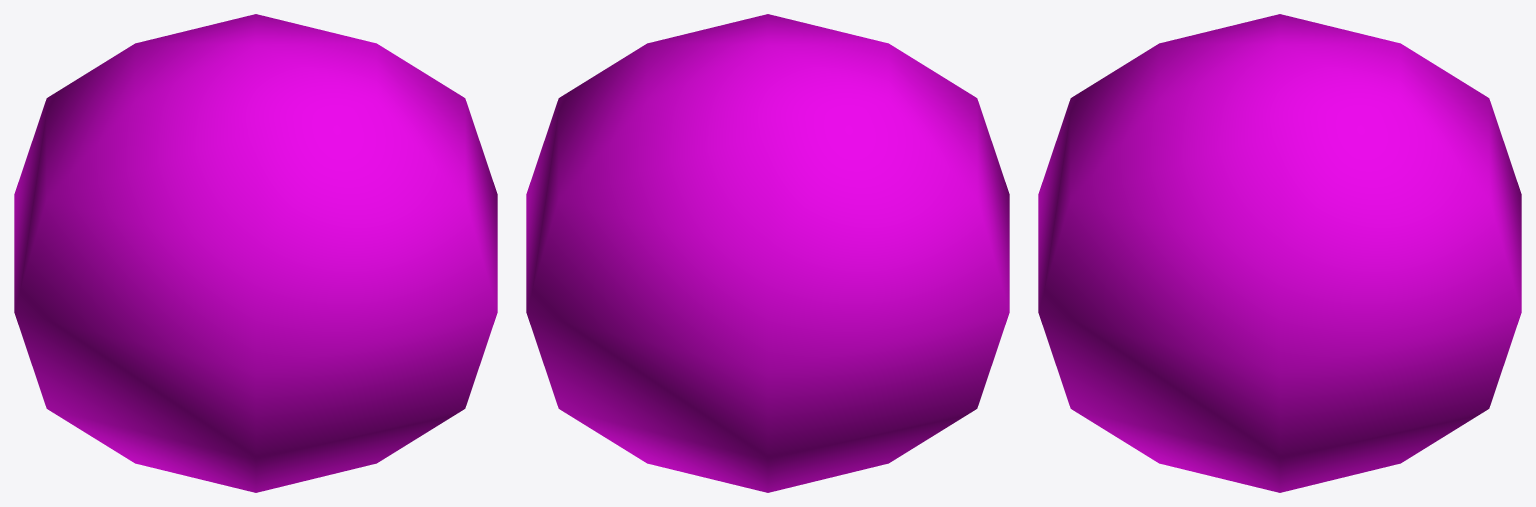
Rendered from BaladoBaleiro.fbx.
The picture shows the model from 3 angles, left to right: view 1: azimuth 30°, elevation 25°; view 2: azimuth 150°, elevation 25°; view 3: azimuth 270°, elevation 25°; orthographic projection.
Parts seen in each view (by area): view 1: pSphere1; view 2: pSphere1; view 3: pSphere1.
Part boxes in pixels (bbox=[...]): pSphere1: bbox=[14, 14, 497, 492]; pSphere1: bbox=[526, 14, 1009, 492]; pSphere1: bbox=[1038, 14, 1521, 492].
Size of the model in its own units: 2 by 1.65 by 1.73.
